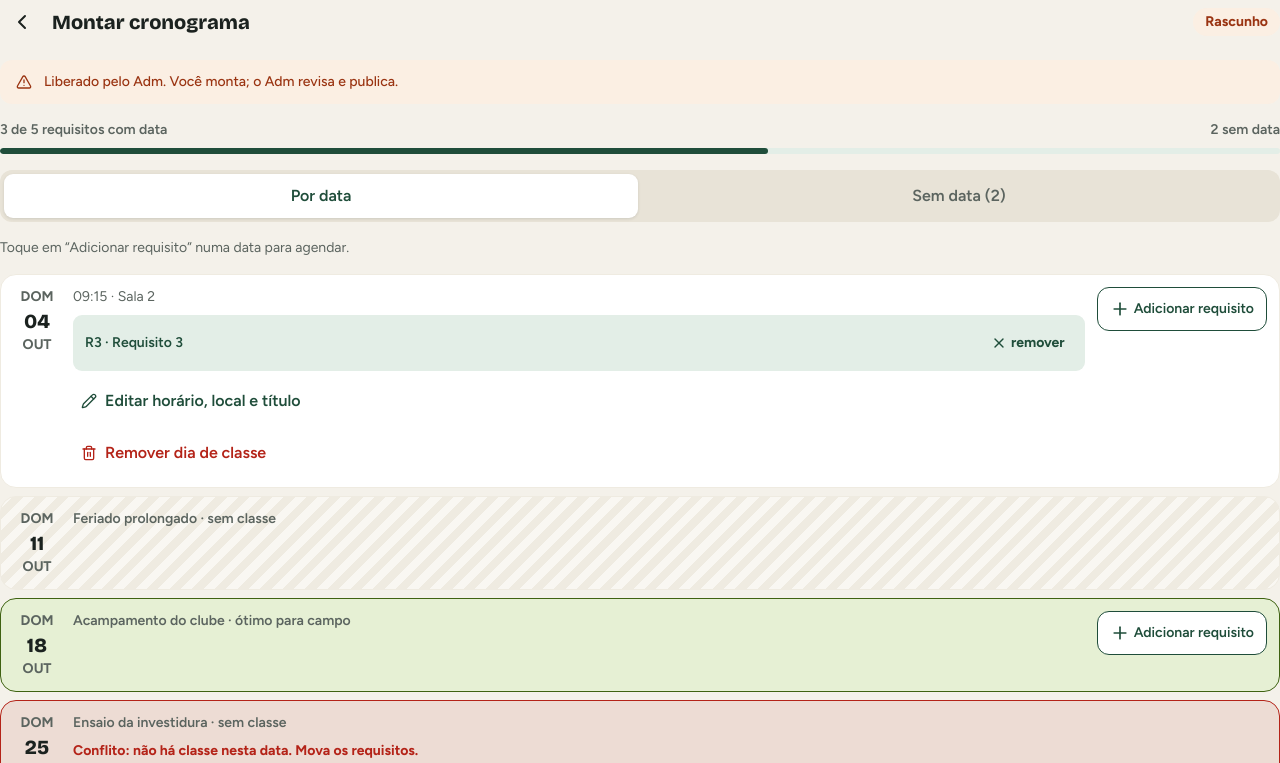
Test: I3b · achados de montagem › classe desativada (422): mostra a mensagem na faixa
Expected: the text "3 de 5 requisitos com data" is shown, top-left (0, 120), bottom-right (167, 140)
Click the button "Remover dia de classe": (174, 453) top-left (73, 431), bottom-right (274, 475)
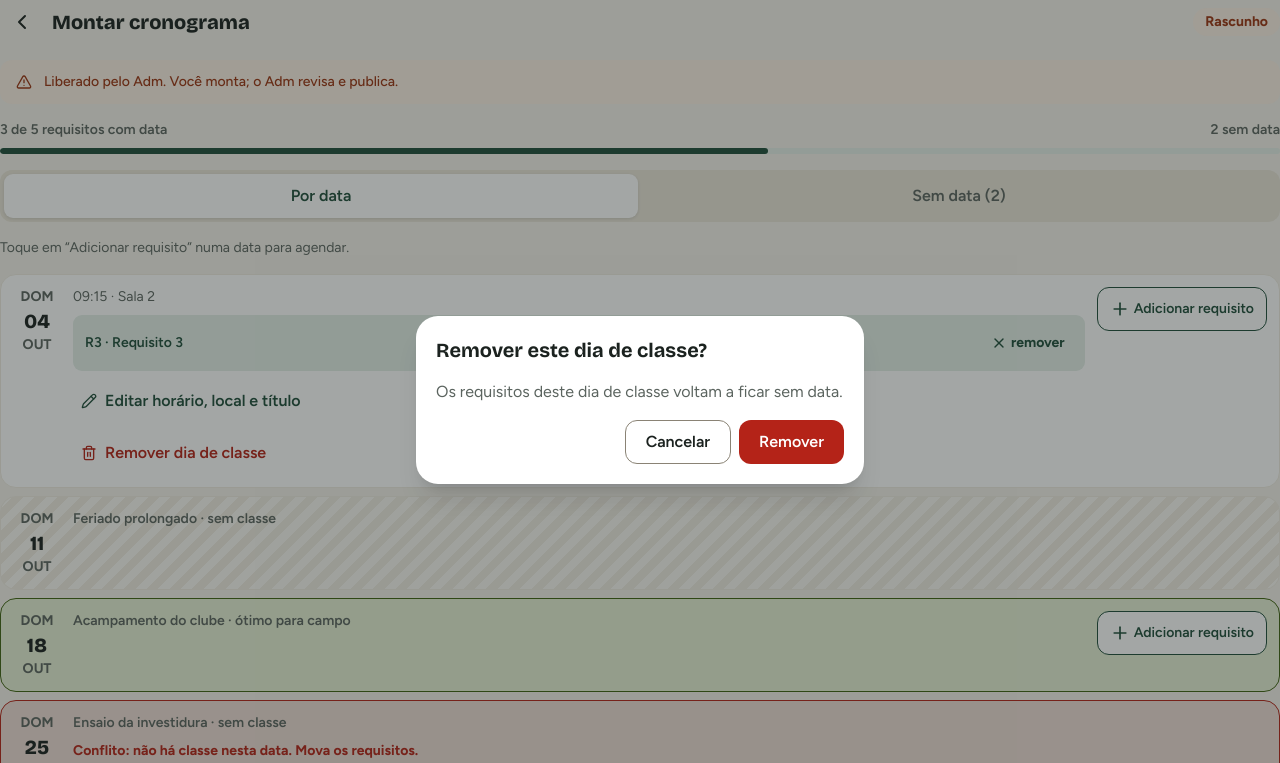
Click the button "Remover": (792, 442) top-left (739, 420), bottom-right (844, 464)
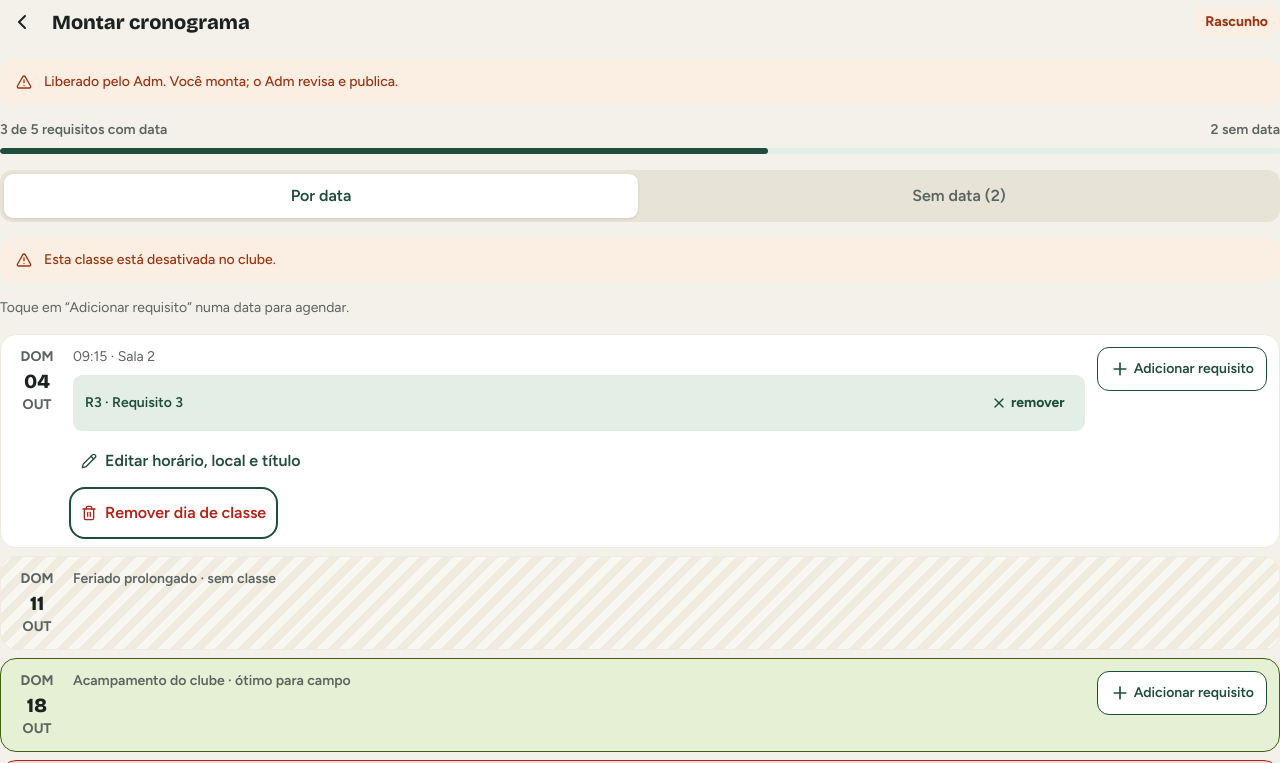
Expected: the text "Esta classe está desativada no clube." is shown, top-left (44, 250), bottom-right (276, 270)
